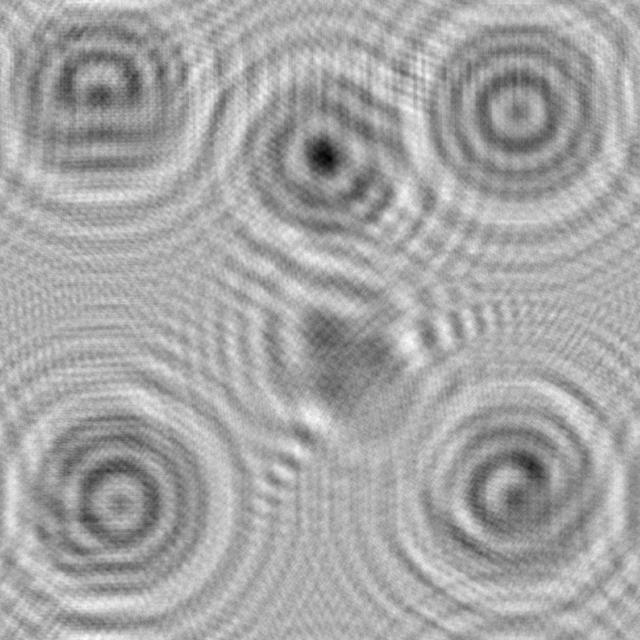D: (0, 0, 229, 226)
G: (387, 344, 640, 640)
O: (398, 0, 640, 230)
P: (194, 22, 457, 317)
Q: (0, 354, 281, 639)
Y: (214, 224, 469, 494)
